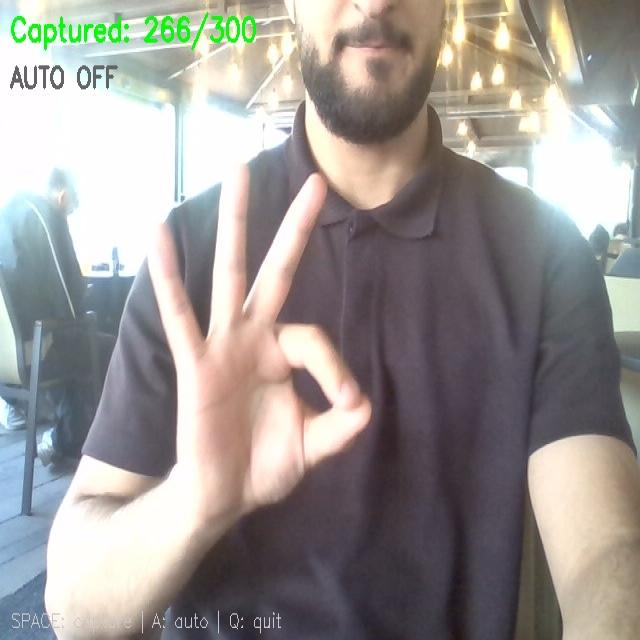Hand: (149, 167, 370, 519)
